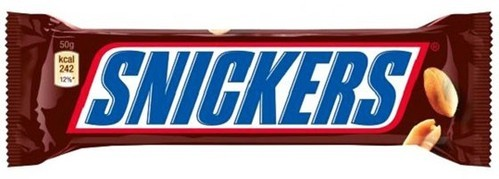snickers: (83, 47, 415, 124), (83, 47, 412, 124), (83, 50, 415, 124)
